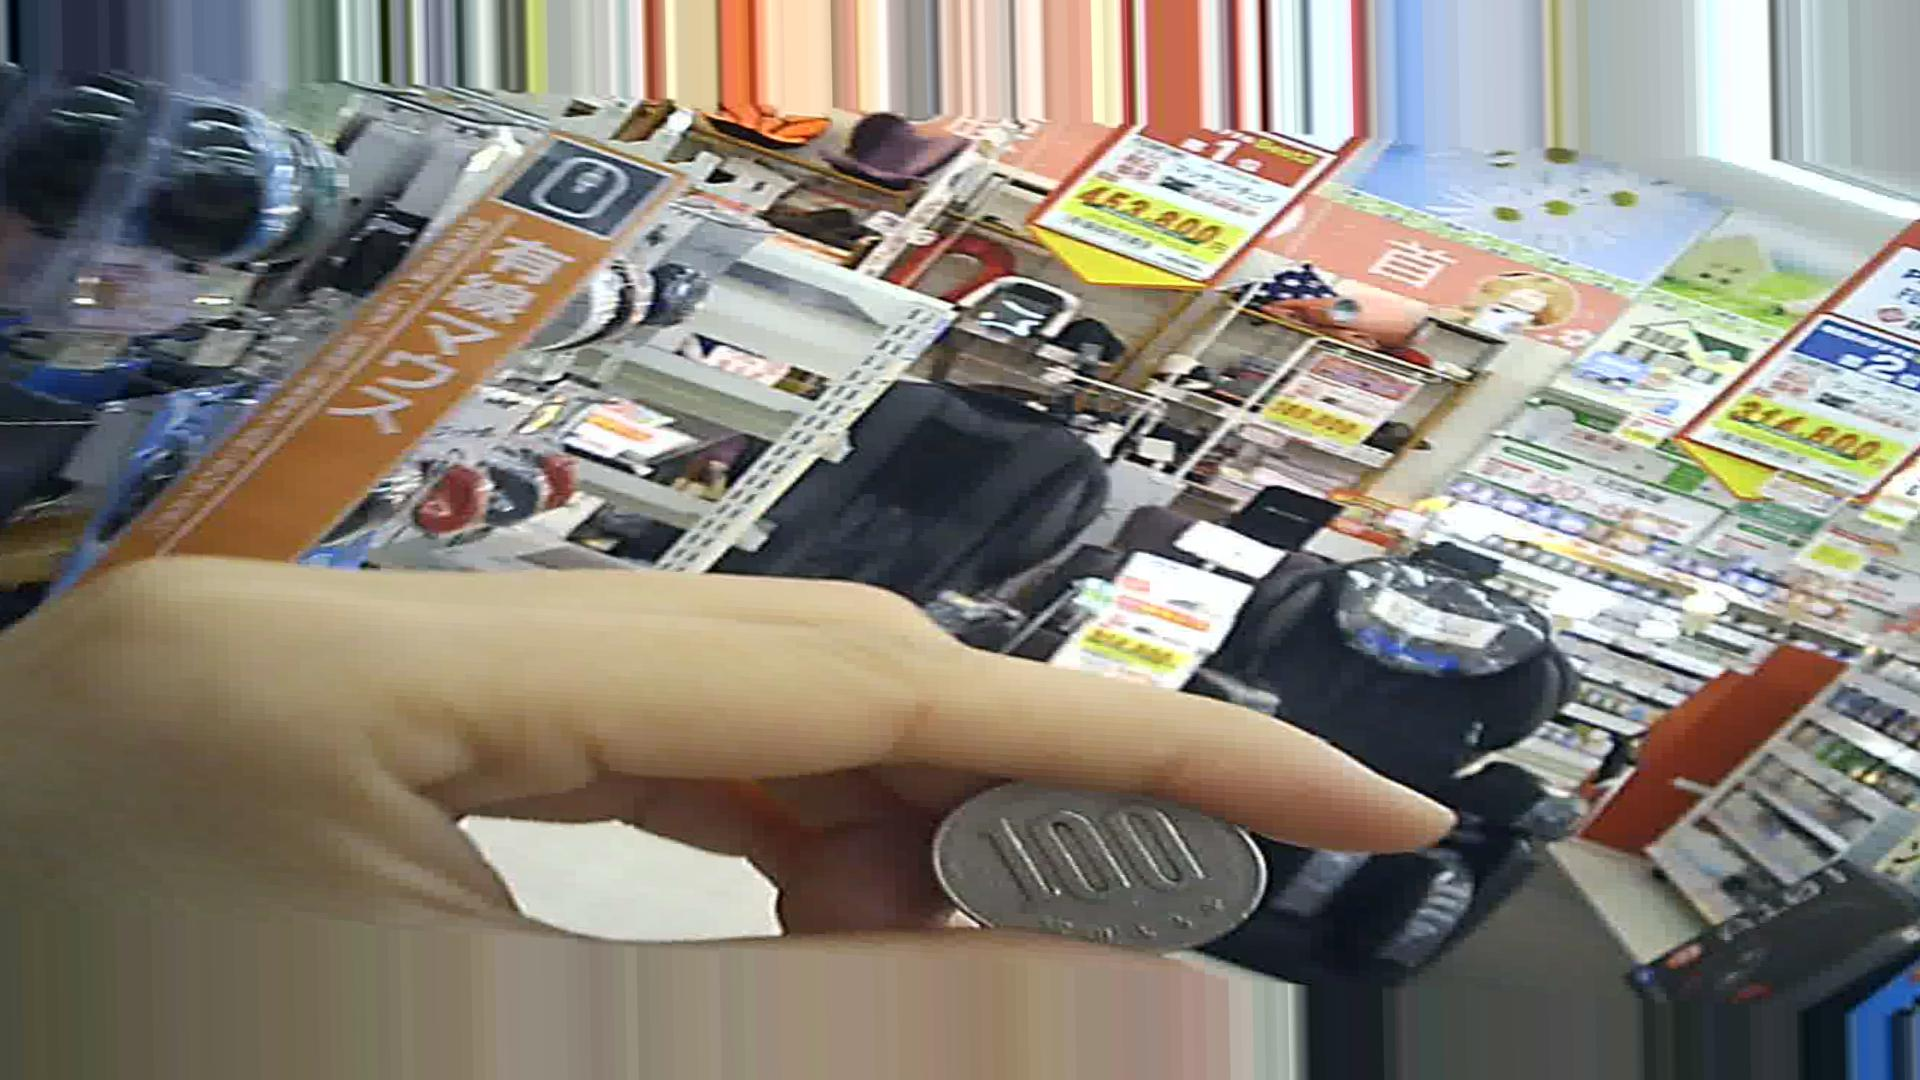100 Yen: (922, 752, 1278, 957)
